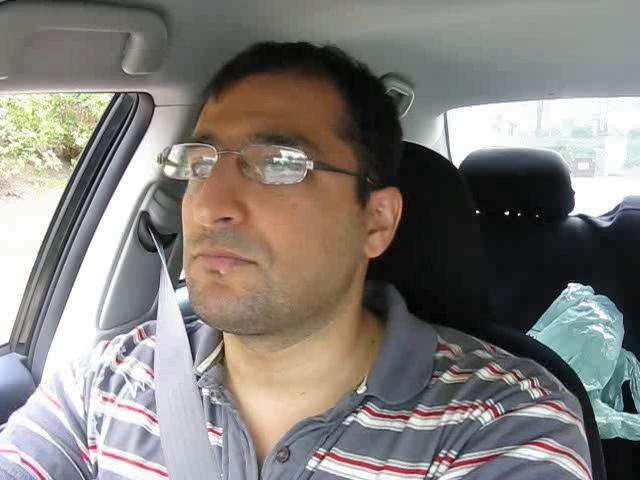no_yawn: (180, 235, 270, 282)
open_eyeL: (181, 144, 231, 182)
open_eyeR: (249, 144, 317, 190)
